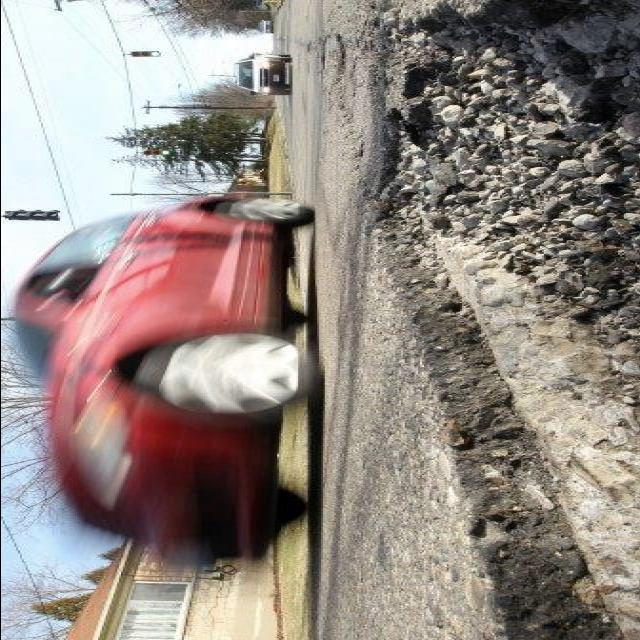lubang: (360, 7, 638, 621), (300, 29, 356, 93)
